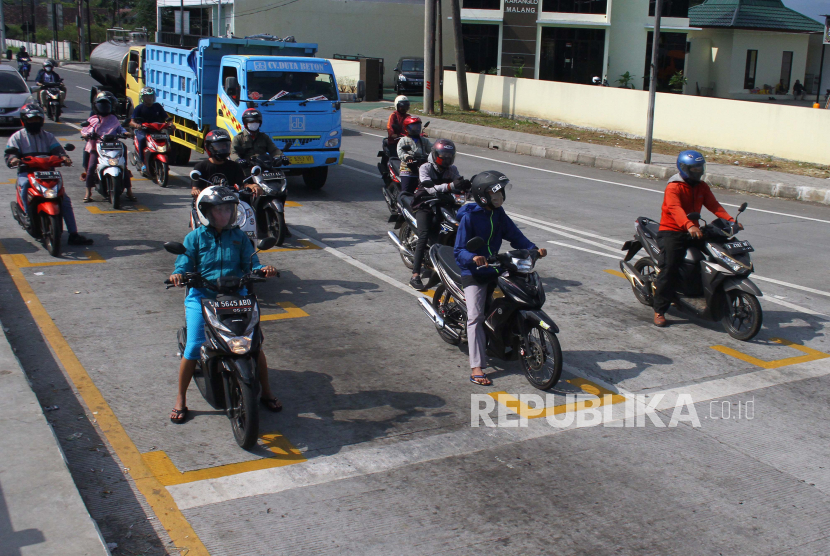car: (144, 34, 344, 198), (86, 29, 174, 129), (1, 62, 40, 131), (396, 55, 434, 98)
motorbike: (420, 172, 567, 400), (620, 151, 767, 343), (172, 189, 271, 449), (401, 137, 490, 307), (3, 106, 88, 260), (187, 128, 260, 281), (383, 120, 450, 225), (233, 114, 287, 244), (81, 88, 137, 208), (376, 96, 431, 203), (132, 89, 175, 189), (35, 59, 66, 121)
